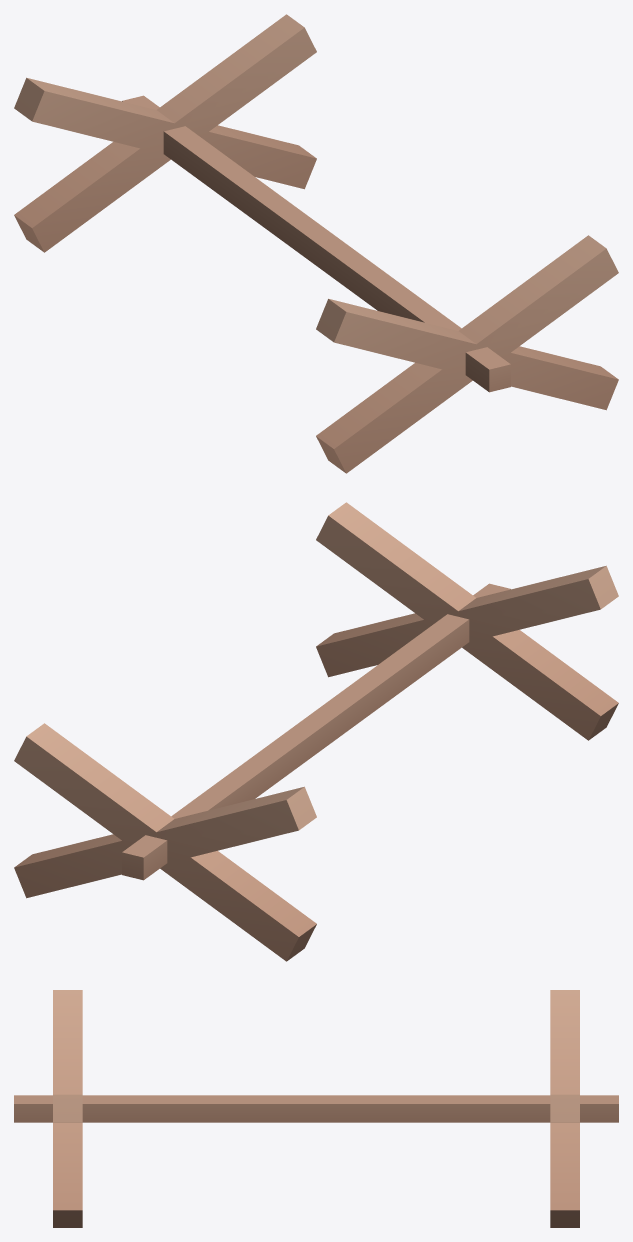
File: bedroll-frame.glb
The picture shows the model from 3 angles, top to bottom: view 1: azimuth 30°, elevation 25°; view 2: azimuth 150°, elevation 25°; view 3: azimuth 270°, elevation 25°; orthographic projection. The views are drawn at different scales.
Parts seen in each view (by area): view 1: bedroll-frame; view 2: bedroll-frame; view 3: bedroll-frame.
Boxes of the visible parts, bbox=[...] form: bedroll-frame: bbox=[14, 14, 618, 473]; bedroll-frame: bbox=[14, 502, 618, 961]; bedroll-frame: bbox=[14, 990, 618, 1227].
Bounding box in the file's own units: 0.2722 × 0.1477 × 0.6076.
